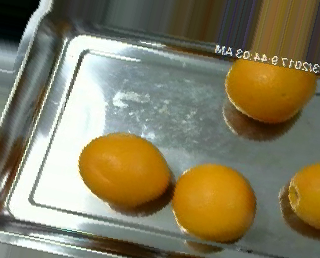Orange: (78, 133, 173, 208), (172, 163, 259, 243)
